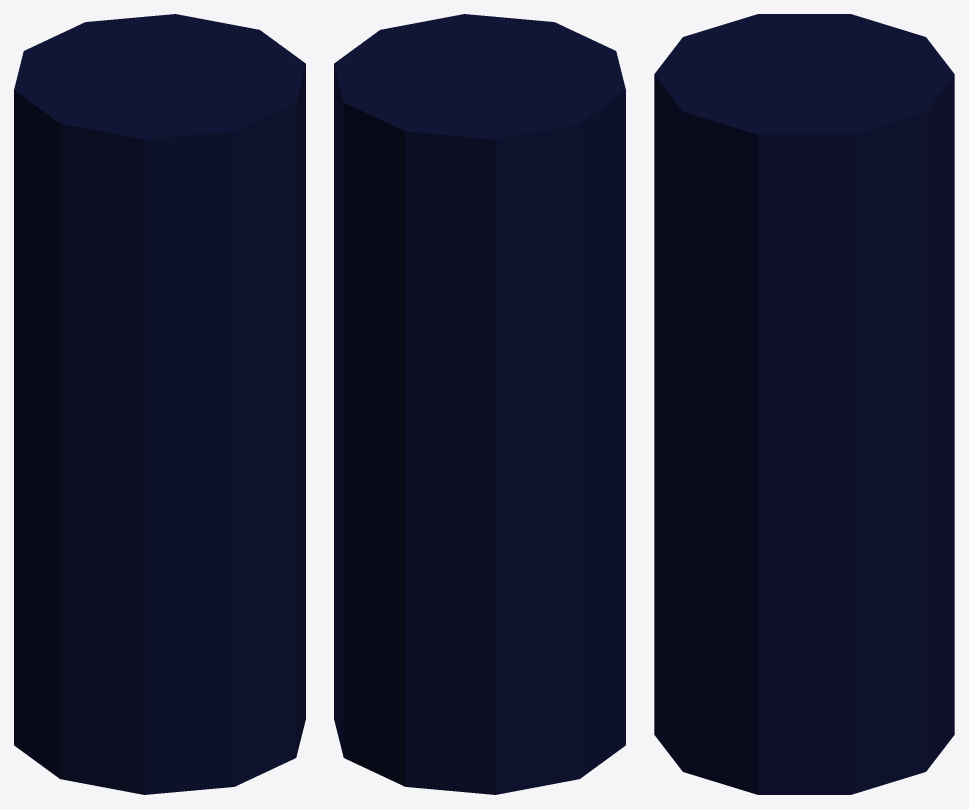
Rendered from tower_inter.glb.
3 views of the same model, side by side, from view 1: azimuth 30°, elevation 25°; view 2: azimuth 150°, elevation 25°; view 3: azimuth 270°, elevation 25° (orthographic).
Parts seen in each view (by area): view 1: Tower_mesh.001; view 2: Tower_mesh.001; view 3: Tower_mesh.001.
Part boxes in pixels (left/top/right/bottom): Tower_mesh.001: left=14, top=14, right=305, bottom=794; Tower_mesh.001: left=334, top=14, right=625, bottom=794; Tower_mesh.001: left=654, top=14, right=954, bottom=794.
Size of the model in its own units: 12.53 by 31.94 by 13.18.
